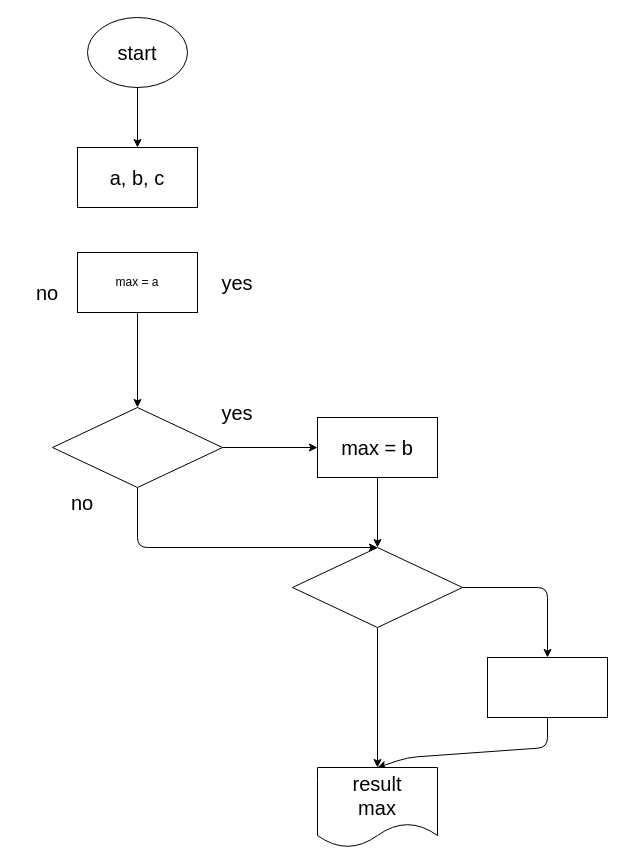
This 625x865 diagram has some shape labels left out. Each missing label, with the centre of its shape:
"b > max" belongs at point (137, 447).
"c > max" belongs at point (377, 587).
"max = c" belongs at point (547, 687).
